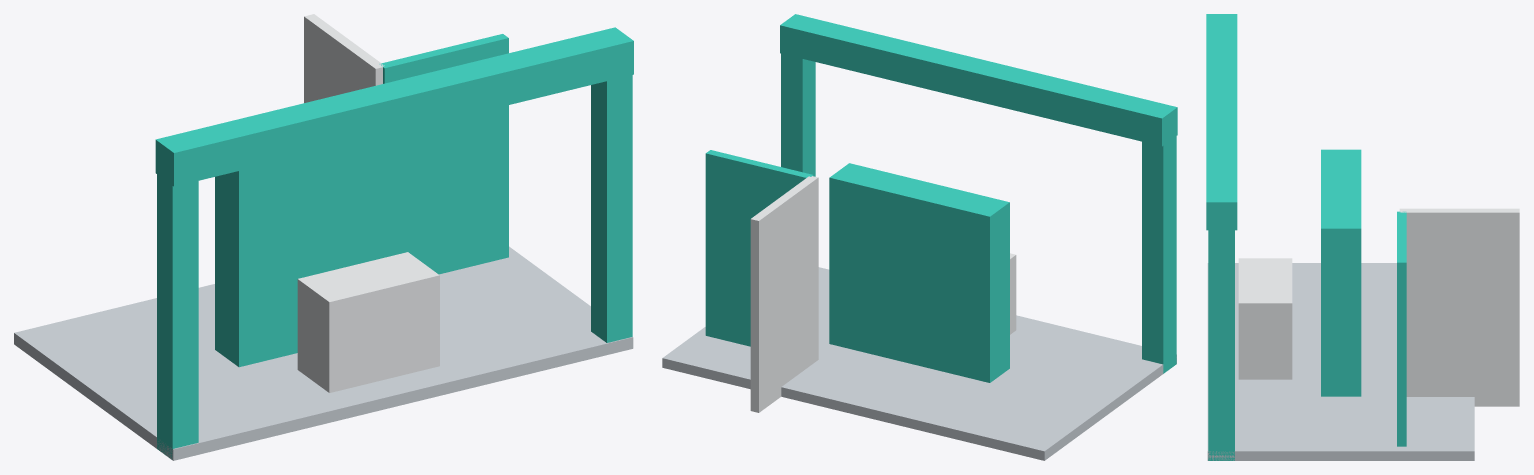
The picture shows the model from 3 angles, left to right: view 1: azimuth 30°, elevation 25°; view 2: azimuth 150°, elevation 25°; view 3: azimuth 270°, elevation 25°; orthographic projection. The views are drawn at different scales.
Visible parts, largest first — view 1: Exhibition Booth Concept; view 2: Exhibition Booth Concept; view 3: Exhibition Booth Concept.
Boxes of the visible parts, x1,y1,x2,y2 form: Exhibition Booth Concept: [14, 14, 633, 460]; Exhibition Booth Concept: [662, 14, 1177, 460]; Exhibition Booth Concept: [1206, 14, 1519, 460].
Size of the model in its own units: 5 by 3.2 by 3.52.
